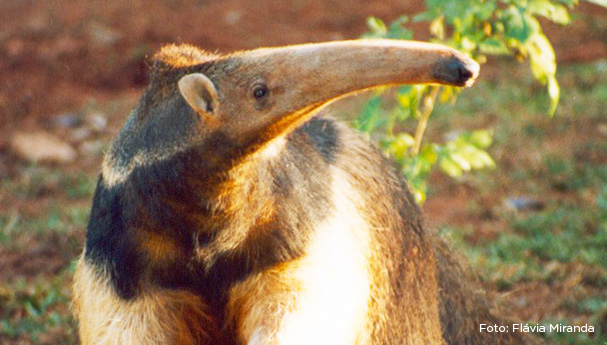TamanduaBandeira: (63, 31, 483, 345)
